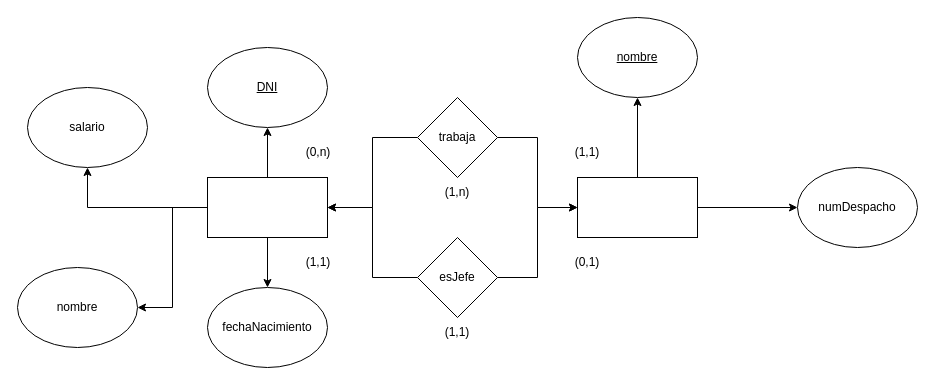
This 935x385 diagram has some shape labels left out. The shapes that lost their labels are listed below. From the top down, each one's centre as x and y in pixels, then its label:
At point 267,207: "EMPLEADO".
At point 637,207: "DEPARTAMENTO".
